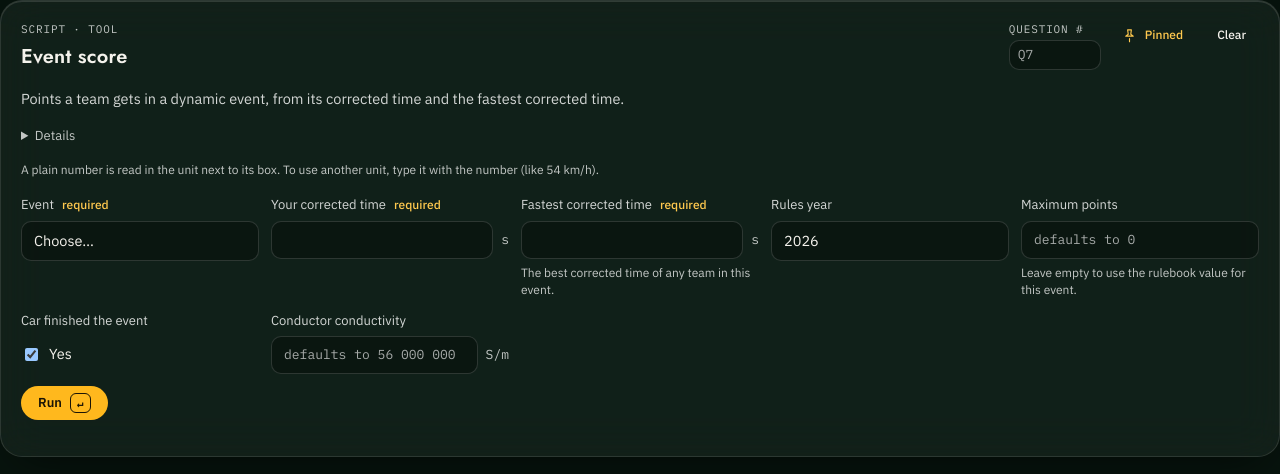
Test: the tool form in plain words › Clear puts every field back to where it started, the rules year included
Expected: the form with class "fields" is shown, [21,196,1259,420]
Select "Older quiz keys (legacy)" in the dropdown labelled "Rules year" at point(890, 241), box [771,221,1009,261]
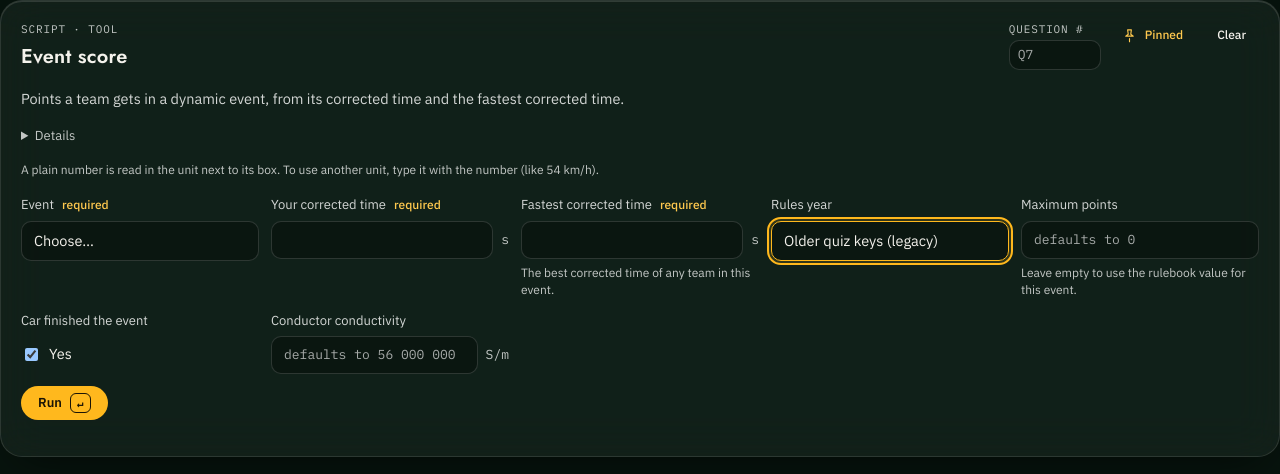
Click the checkbox labelled "Car finished the event Yes" at point(32, 354), box [25,348,38,361]
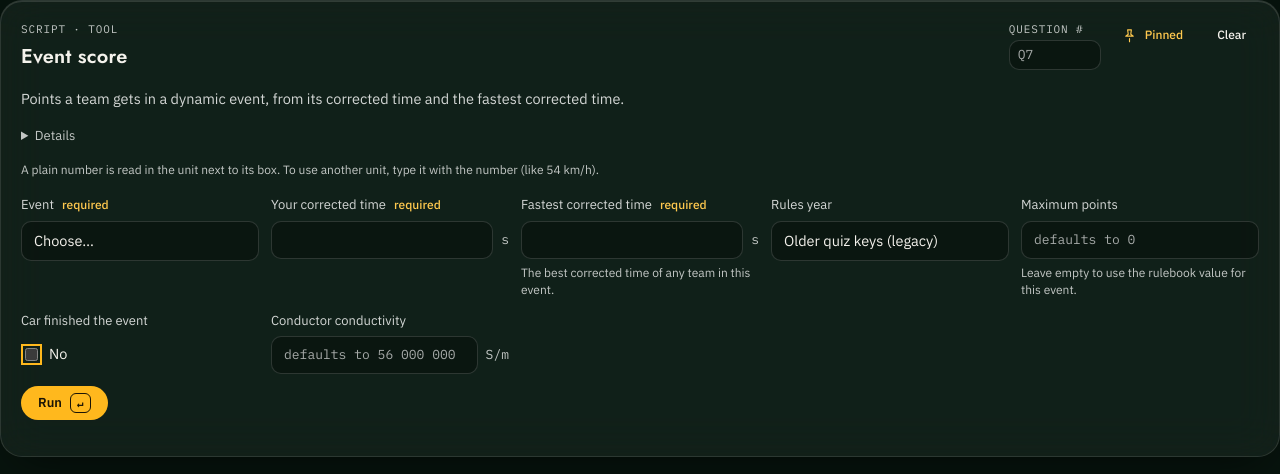
Type "5.6" into the field labelled "Your corrected time required s" at point(382, 240), box [271,221,493,259]
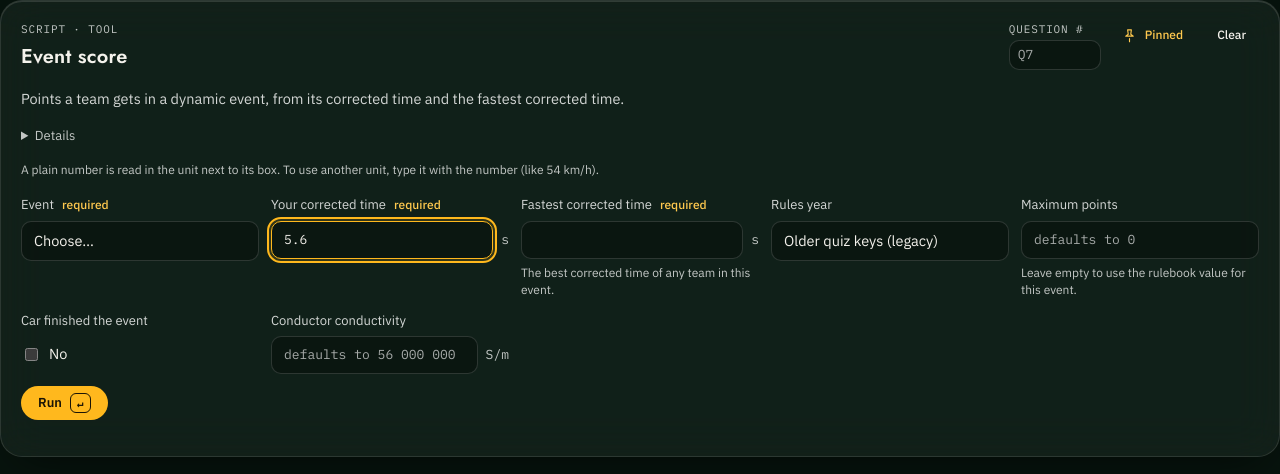
Click the button "Clear" at point(1232, 35), box [1204,21,1259,49]
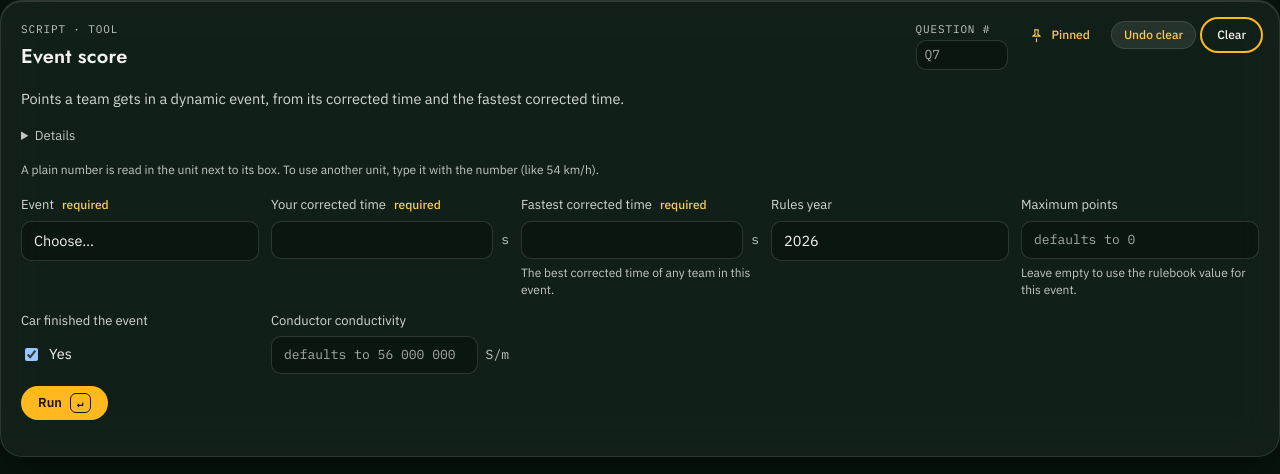
Now the checkbox labelled "Car finished the event Yes" is checked, box [25,348,38,361]
Now the field labelled "Your corrected time required s" is empty, box [271,221,493,259]
